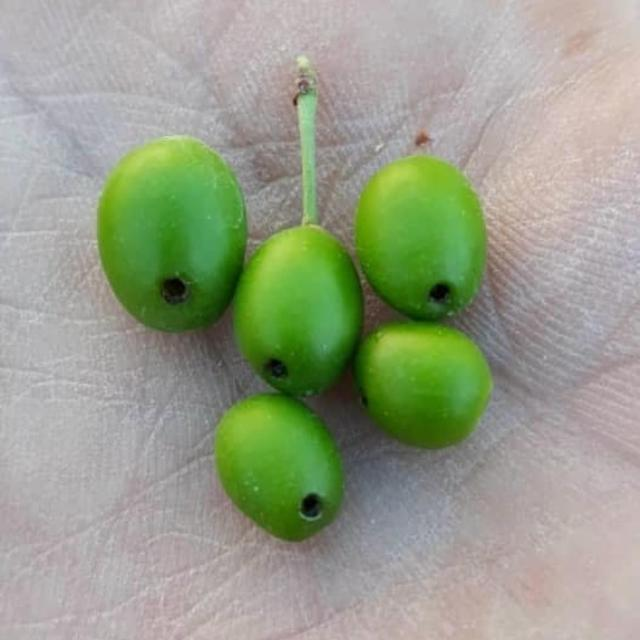Anthracnose: (97, 136, 247, 331), (234, 223, 364, 394), (354, 154, 486, 320), (214, 394, 344, 542)
